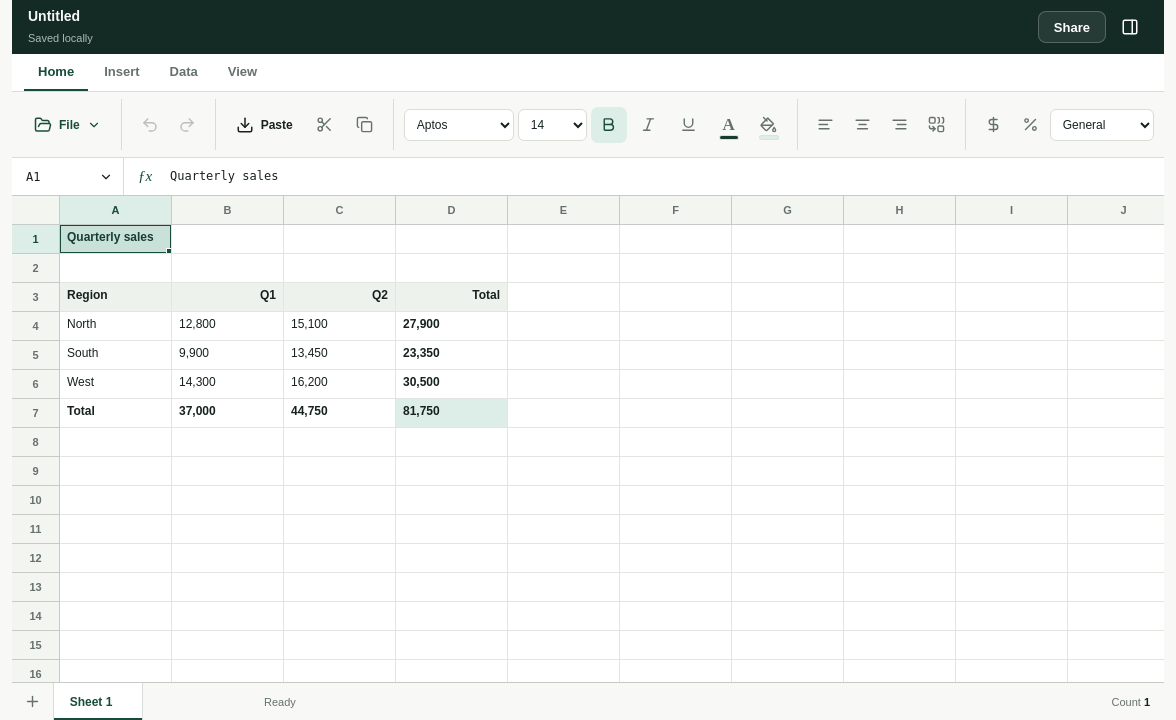
Test case: Gridstone interactions › opens Find with the keyboard shortcut and reports matches
Type keys "{Meta>}f{/Meta}"
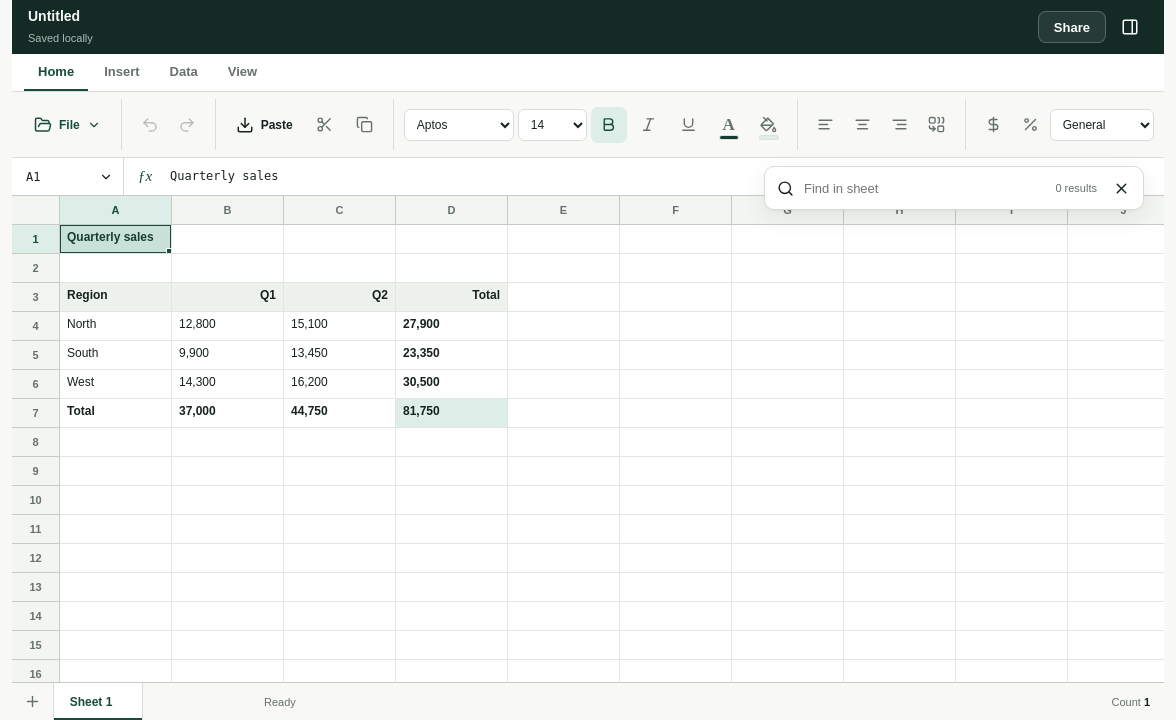
Type "North" into the field with placeholder "Find in sheet". click: x=925, y=188
box: x1=802 y1=180 x2=1047 y2=196
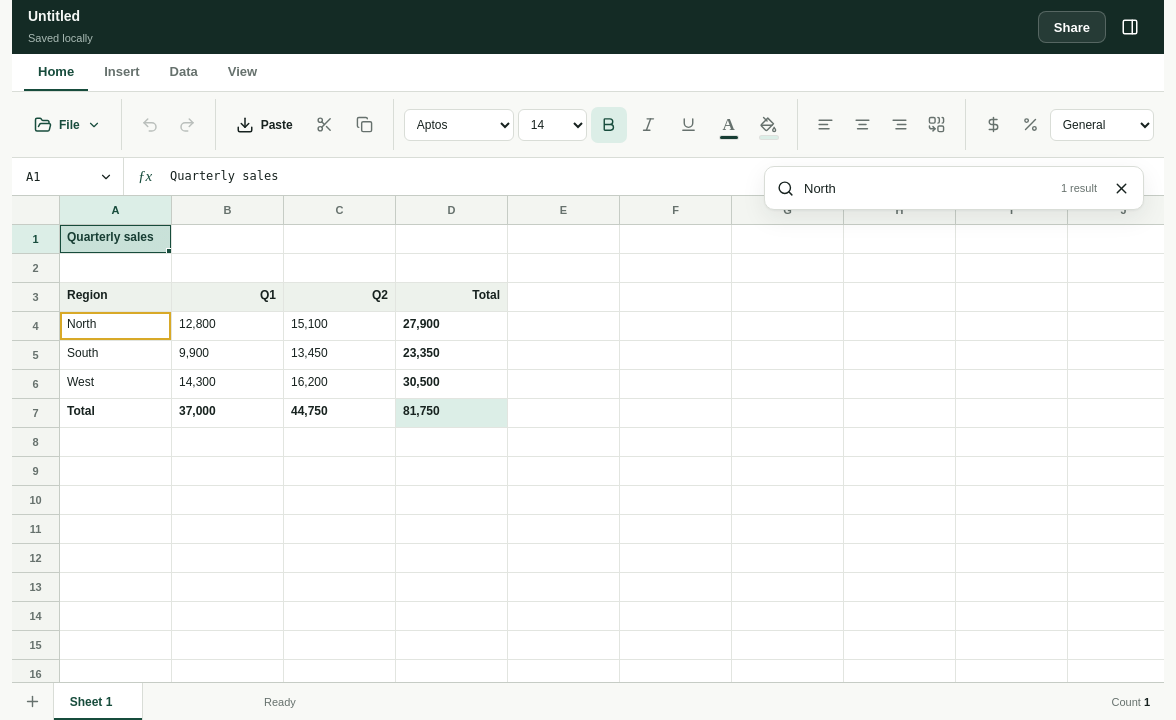
Expected: the text "1 result" is shown, x1=1061 y1=182 x2=1097 y2=194
